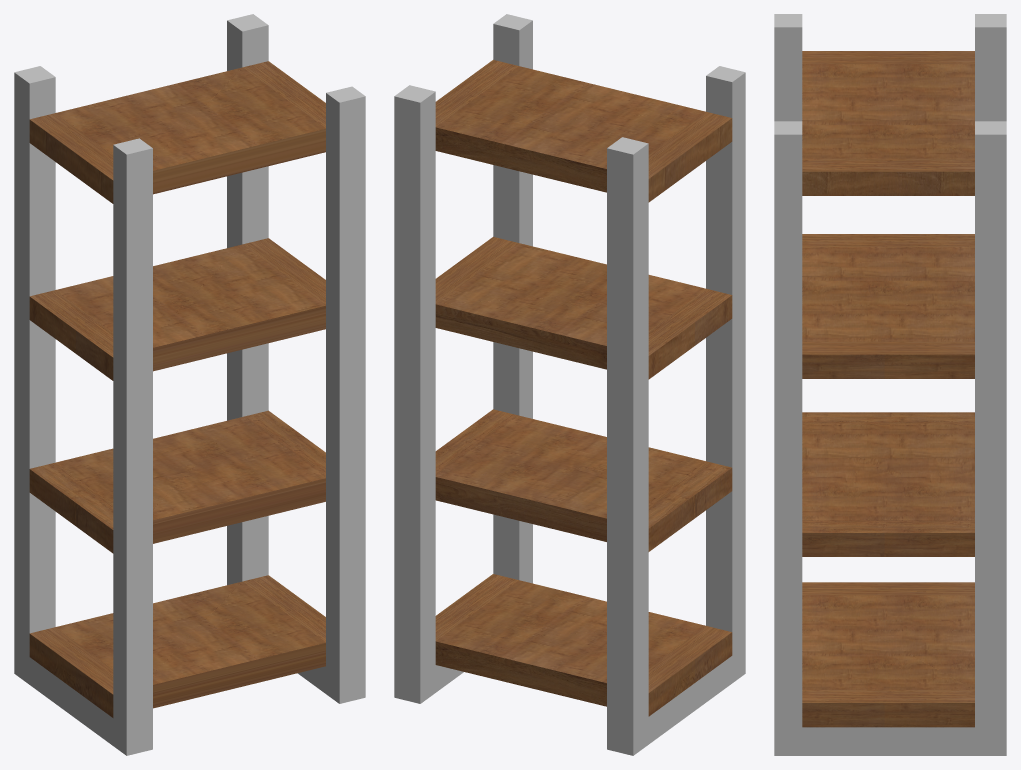
Rendered from Estante_4_MaC_MeC_P.fbx.
3 views of the same model, side by side, from view 1: azimuth 30°, elevation 25°; view 2: azimuth 150°, elevation 25°; view 3: azimuth 270°, elevation 25° (orthographic). The views are drawn at different scales.
Visible parts, largest first — view 1: polySurface26; view 2: polySurface26; view 3: polySurface26.
Boxes of the visible parts, <box> form: polySurface26: <box>14,14,365,755</box>; polySurface26: <box>394,14,745,755</box>; polySurface26: <box>774,14,1006,755</box>.
Bounding box in the file's own units: 1 × 2.4 × 0.8151.
